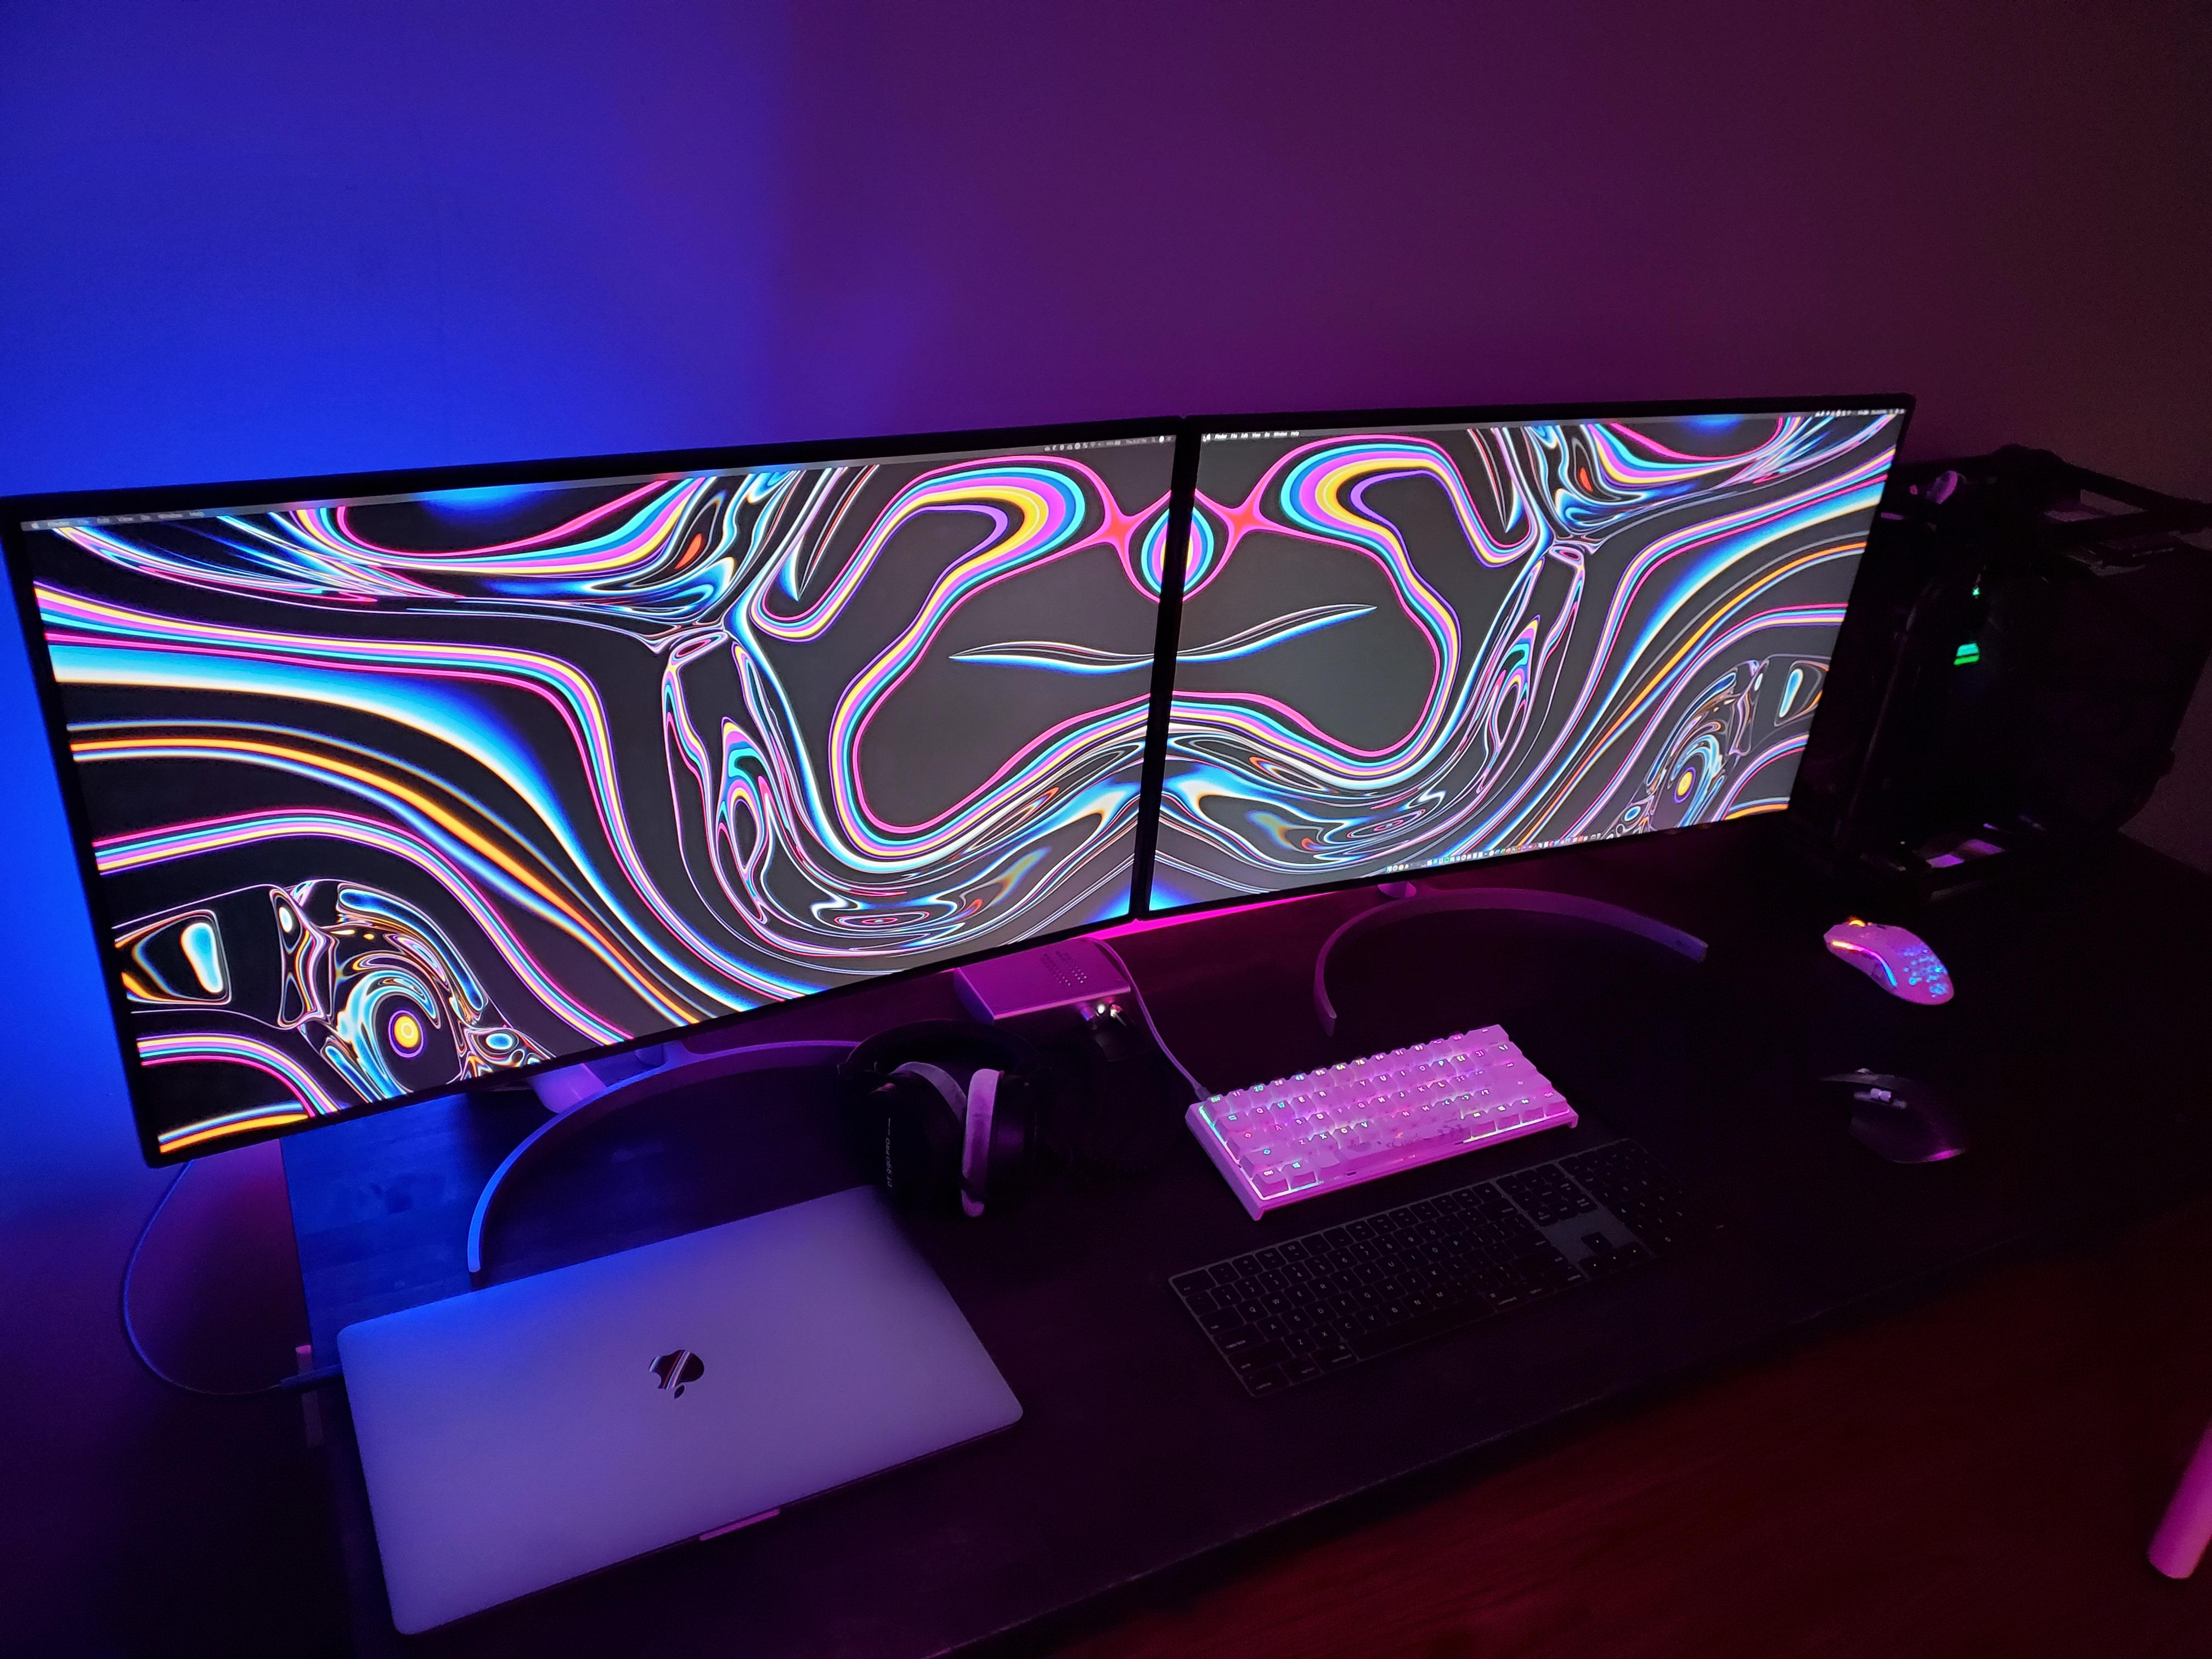Desk (Generic): (172, 880, 2094, 1659)
Desktop (Generic): (1778, 427, 2191, 890)
Headphones: (826, 1012, 1109, 1236)
Keyboard (Generic): (1130, 1105, 1742, 1443), (1181, 990, 1587, 1239)
Laptop (OSX): (303, 1169, 1059, 1635)
Monitor (Landscape): (0, 404, 1181, 1168), (1130, 380, 1930, 958)
Mouse (Gaming): (1792, 1042, 1980, 1194), (1797, 901, 1980, 1028)
